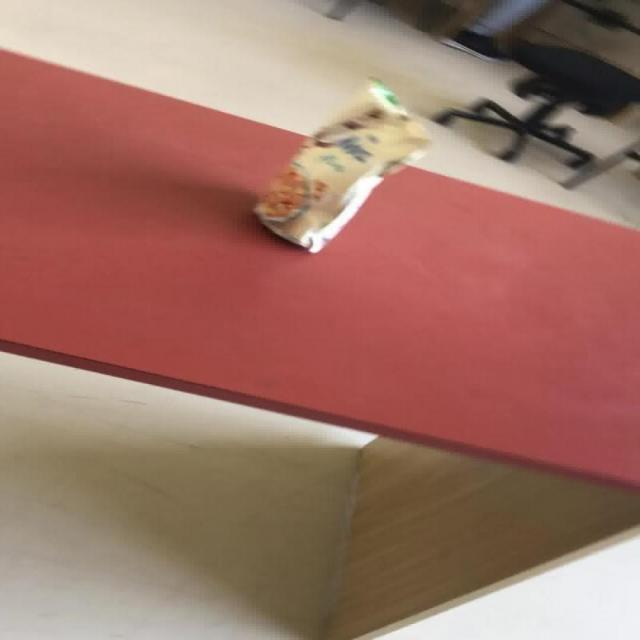CornFlakes: (249, 77, 432, 252)
